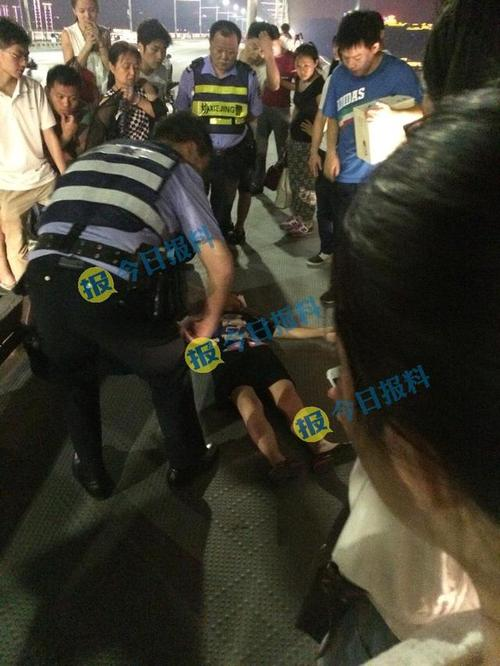10+: (1, 1, 500, 666)
down: (195, 284, 357, 469)
